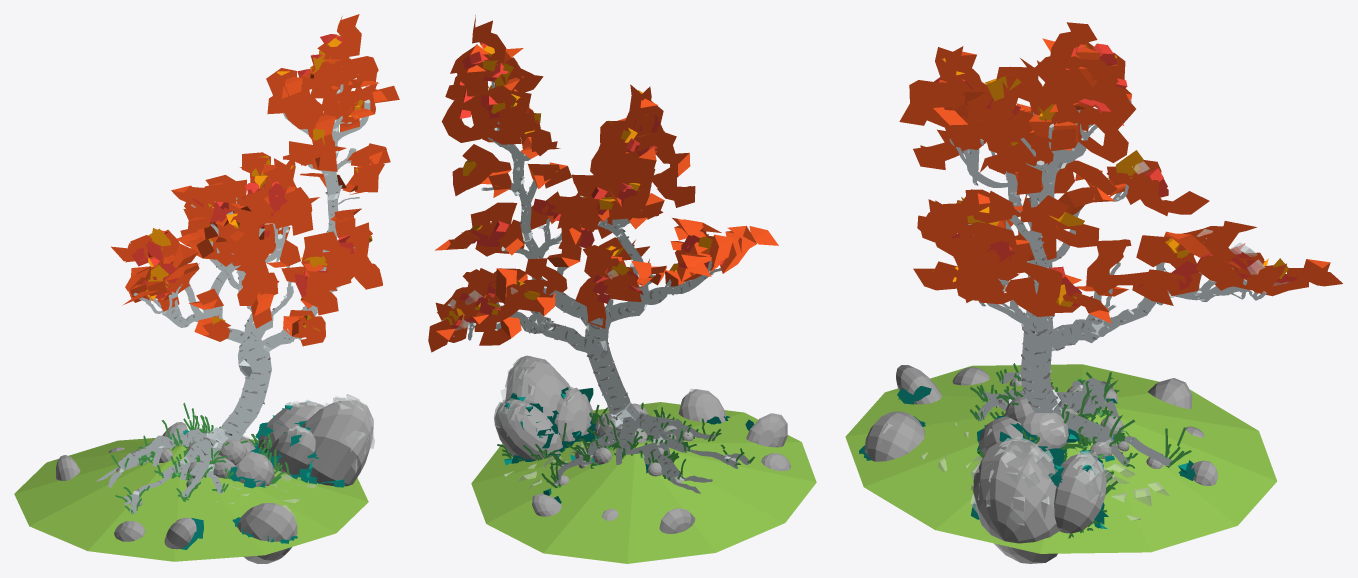
File: Mystic Tree.glb
3 renders of one model, left to right at view 1: azimuth 30°, elevation 25°; view 2: azimuth 150°, elevation 25°; view 3: azimuth 270°, elevation 25°, orthographic. The views are drawn at different scales.
Parts seen in each view (by area): view 1: Node; view 2: Node; view 3: Node.
Part boxes in pixels (bbox=[...]): Node: bbox=[14, 14, 399, 563]; Node: bbox=[428, 15, 816, 563]; Node: bbox=[845, 22, 1342, 563].
Size of the model in its own units: 1.67 by 2.13 by 1.65.
